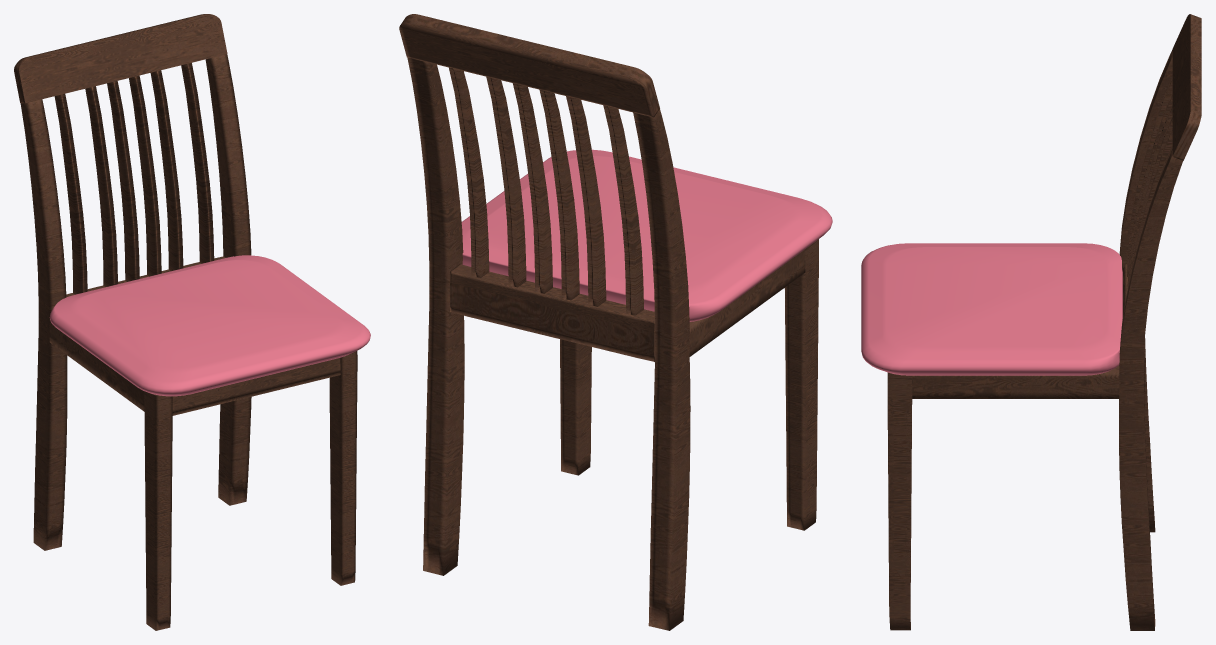
The model's file is Simple-Chair.fbx.
3 views of the same model, side by side, from view 1: azimuth 30°, elevation 25°; view 2: azimuth 150°, elevation 25°; view 3: azimuth 270°, elevation 25° (orthographic). The views are drawn at different scales.
Parts seen in each view (by area): view 1: Chair, Cube.001; view 2: Chair, Cube.001; view 3: Cube.001, Chair.
Boxes of the visible parts, box(x1,y1,x2,y2) form: Chair: box(14, 14, 357, 630); Cube.001: box(49, 255, 370, 396); Chair: box(399, 14, 818, 630); Cube.001: box(461, 149, 832, 321); Cube.001: box(861, 243, 1122, 375); Chair: box(887, 14, 1201, 630).
Size of the model in its own units: 225 by 441 by 265.
